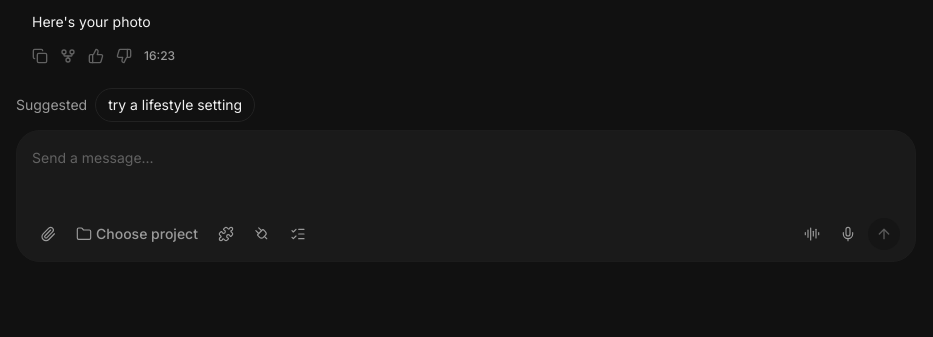
Test case: ChatView › hides the suggestion chip while a run is active
The width and height of the screenshot is (933, 337).
Check: the button "try a lifestyle setting" is shown, box [95, 88, 255, 122]
In the text box with placeholder "Send a message...": coordinates (466, 158) [32, 146, 900, 170], type "one more thing"
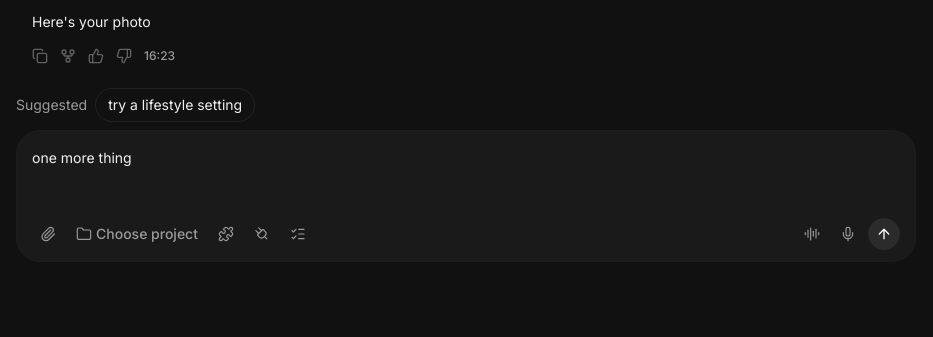
Press Enter in the text box with placeholder "Send a message...", box [32, 146, 900, 170]
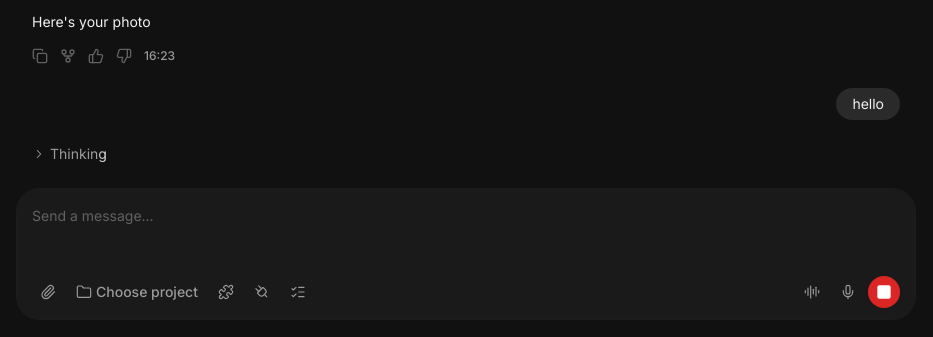
Check: the text box with placeholder "Send a message..." is empty, box [32, 204, 900, 228]
Check: the button "try a lifestyle setting" is gone
